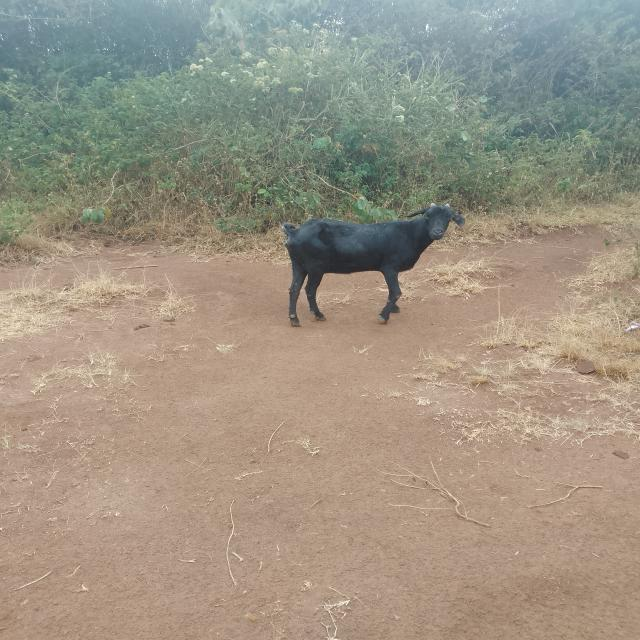goat: (247, 168, 497, 345)
